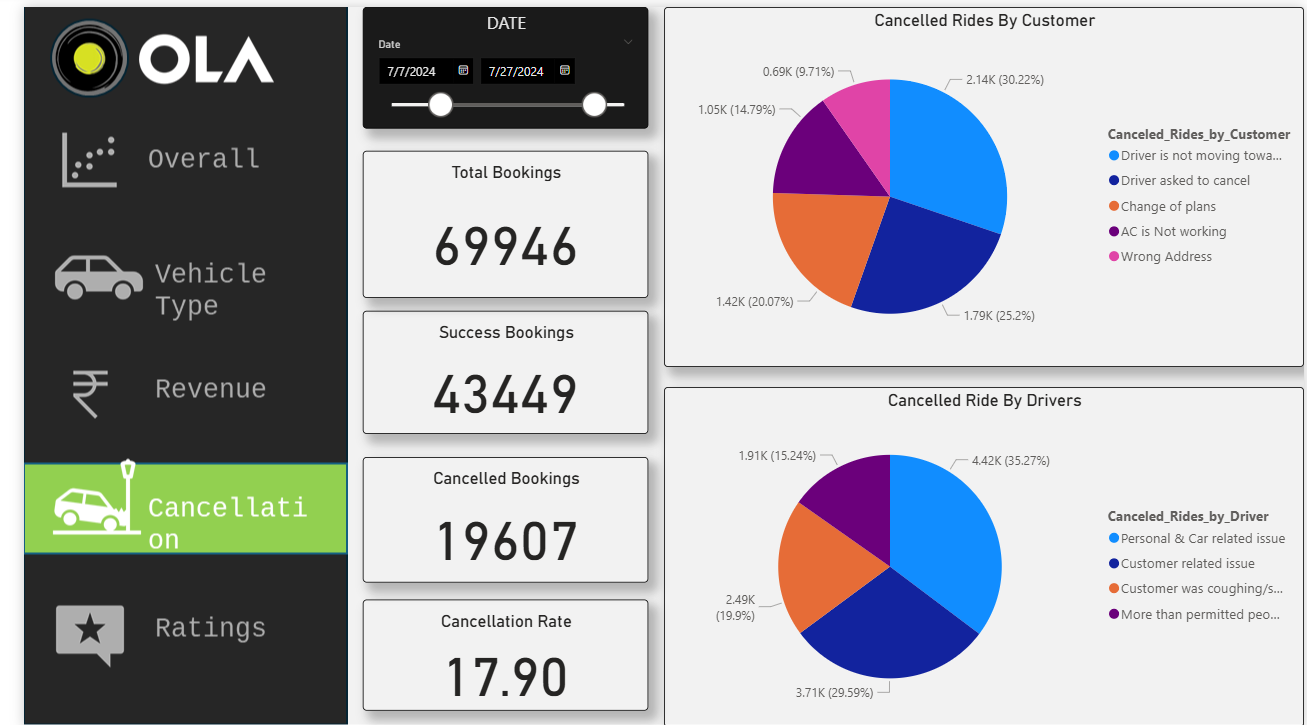

This screenshot's page, from the dashboard's own definition file:
{"tool":"powerbi","page":{"name":"Cancellation","canvas":[1280,720],"ordinal":3},"visuals":[{"type":"actionButton","box":[0,576.2,322.5,93.8],"z":0},{"type":"actionButton","box":[0,333.8,322.5,92.5],"z":1000},{"type":"actionButton","box":[0,227.5,322.5,92.5],"z":2000},{"type":"actionButton","box":[0,105,322.5,92.5],"z":3000},{"type":"pieChart","title":"Cancelled Rides By Customer","fields":{"Category":["July.Canceled_Rides_by_Customer"],"Y":["CountNonNull(July.Canceled_Rides_by_Customer)"]},"box":[640,0,640,360],"z":4000},{"type":"pieChart","title":"Cancelled  Ride By Drivers","fields":{"Category":["July.Canceled_Rides_by_Driver"],"Y":["CountNonNull(July.Canceled_Rides_by_Driver)"]},"box":[640,380,640,340],"z":5000},{"type":"slicer","title":"DATE","fields":{"Values":["July.Date"]},"box":[338.6,0,285.7,121.4],"z":6000},{"type":"card","title":"Total Bookings","fields":{"Values":["CountNonNull(July.Booking_ID)"]},"box":[338.6,144.3,285.7,147.1],"z":7000},{"type":"card","title":"Success Bookings","fields":{"Values":["CountNonNull(July.Booking_ID)"]},"box":[338.6,304.3,285.7,122.9],"z":8000},{"type":"card","title":"Cancelled Bookings","fields":{"Values":["CountNonNull(July.Booking_ID)"]},"box":[338.6,450,285.7,125.7],"z":9000},{"type":"card","title":"Cancellation Rate","fields":{"Values":["July.CanceledPercentage"]},"box":[338.6,592.9,285.7,111.4],"z":10000}]}

Visuals, with their boxes in screenshot pixels (x1, y1, x2, y2), scaled from the page's 1280x720 canvas onto the 1307x725 screenshot:
actionButton: bbox=[0, 580, 329, 675]
actionButton: bbox=[0, 336, 329, 429]
actionButton: bbox=[0, 229, 329, 322]
actionButton: bbox=[0, 106, 329, 199]
"Cancelled Rides By Customer" pieChart: bbox=[654, 0, 1306, 362]
"Cancelled  Ride By Drivers" pieChart: bbox=[654, 383, 1306, 724]
"DATE" slicer: bbox=[346, 0, 637, 122]
"Total Bookings" card: bbox=[346, 145, 637, 293]
"Success Bookings" card: bbox=[346, 306, 637, 430]
"Cancelled Bookings" card: bbox=[346, 453, 637, 580]
"Cancellation Rate" card: bbox=[346, 597, 637, 709]
